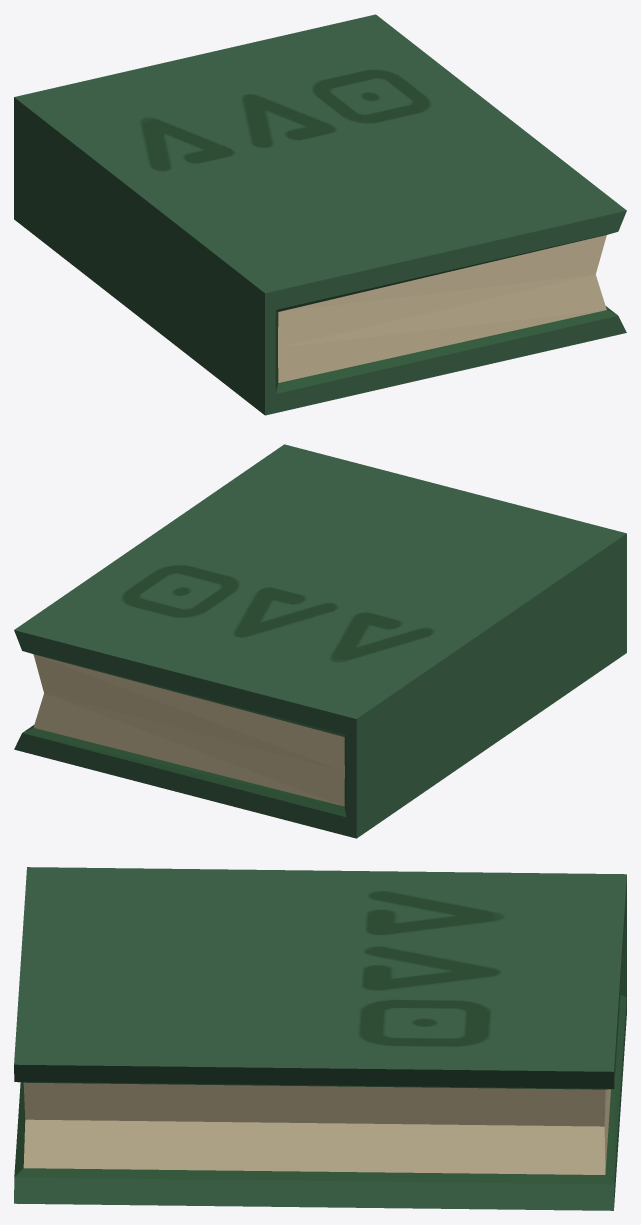
File: 3D_book_1.fbx
3 renders of one model, top to bottom at view 1: azimuth 30°, elevation 25°; view 2: azimuth 150°, elevation 25°; view 3: azimuth 270°, elevation 25°, orthographic. The views are drawn at different scales.
Visible parts, largest first — view 1: 3d_book; view 2: 3d_book; view 3: 3d_book.
Boxes of the visible parts, left/top/right/bottom form: 3d_book: left=14, top=14, right=626, bottom=415; 3d_book: left=14, top=444, right=626, bottom=838; 3d_book: left=14, top=867, right=626, bottom=1210.
Size of the model in its own units: 0.3727 by 0.118 by 0.4717.
